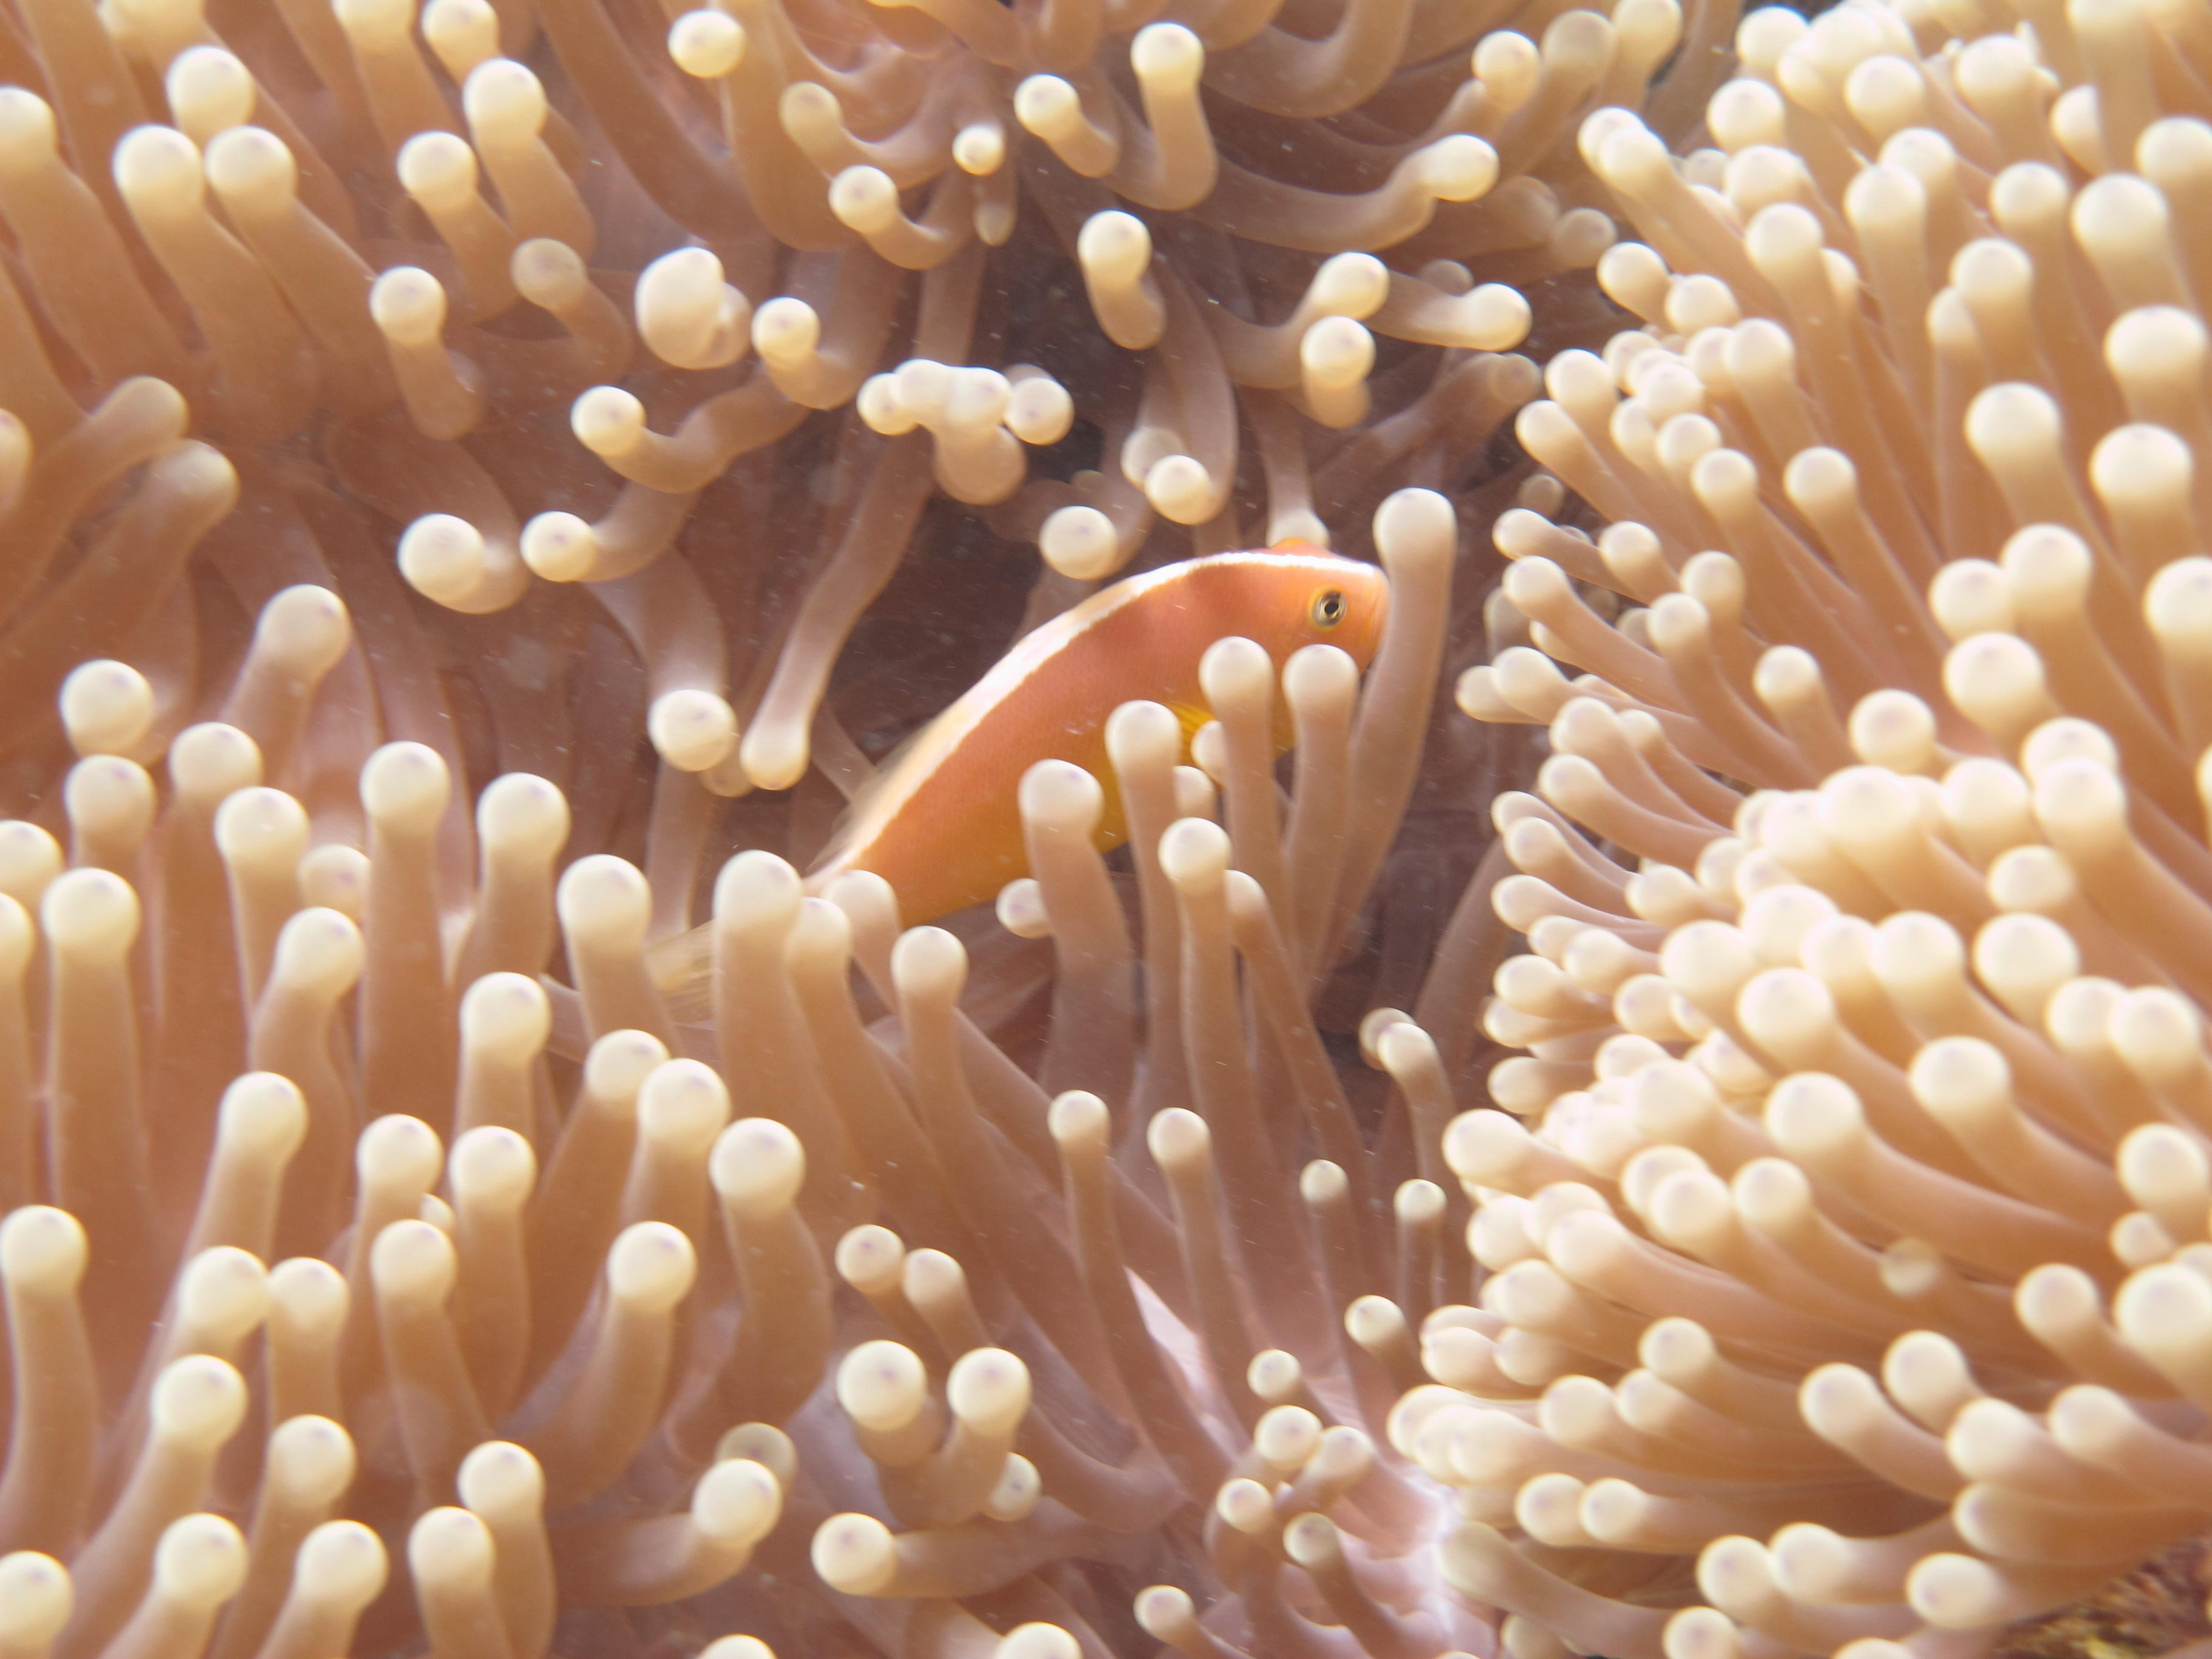Amphiprion akallopsis: (667, 483, 1467, 1007)
